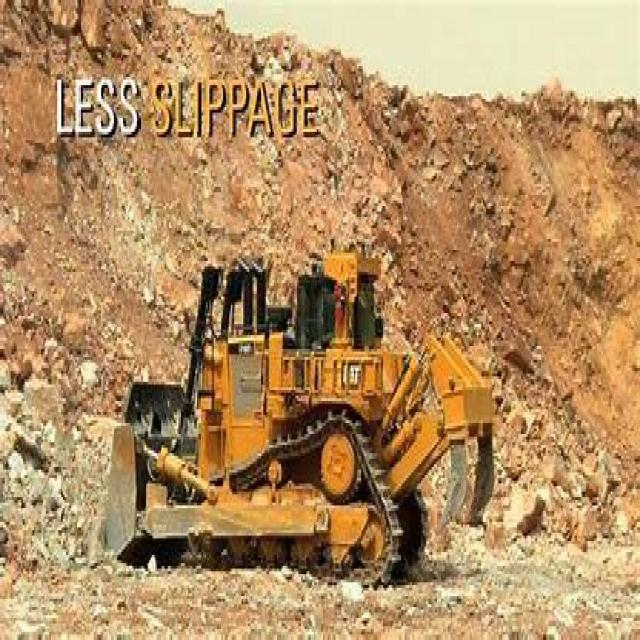Bulldozer: (89, 212, 508, 607)
